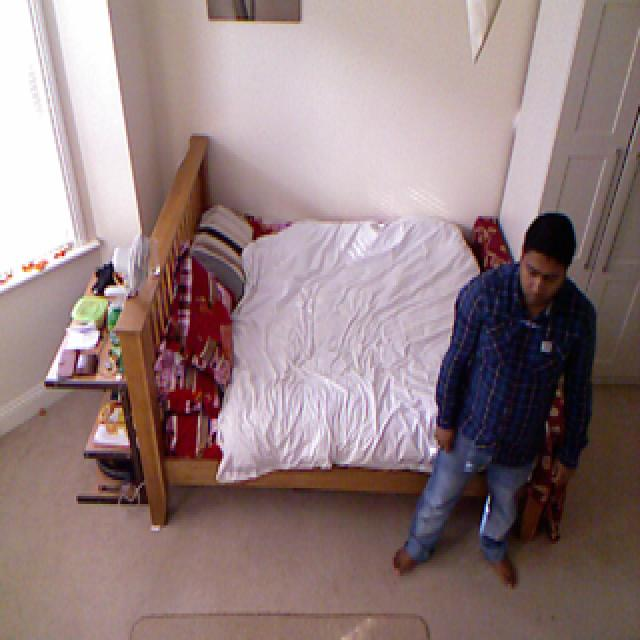standing: (392, 212, 598, 590)
